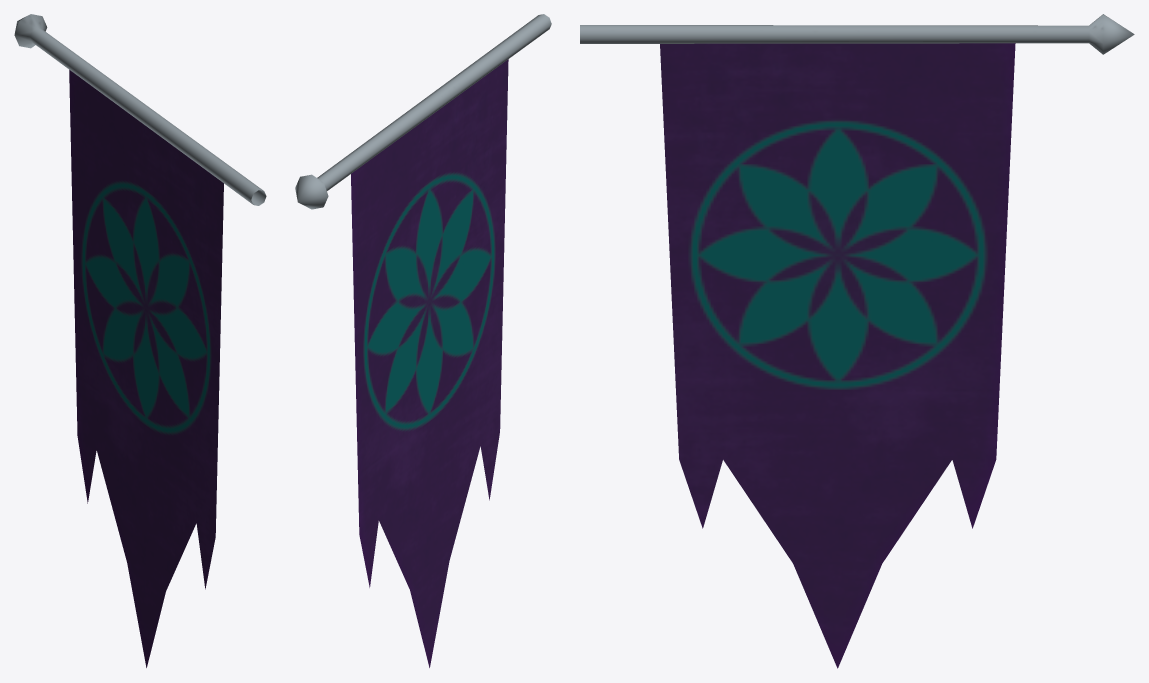
Rendered from Banner3.FBX.
3 views of the same model, side by side, from view 1: azimuth 30°, elevation 25°; view 2: azimuth 150°, elevation 25°; view 3: azimuth 270°, elevation 25° (orthographic). The views are drawn at different scales.
Parts seen in each view (by area): view 1: Banner_03; view 2: Banner_03; view 3: Banner_03.
Boxes of the visible parts, <box> form: Banner_03: <box>14,14,266,667</box>; Banner_03: <box>295,14,551,667</box>; Banner_03: <box>580,14,1134,668</box>.
Size of the model in its own units: 0.1197 by 1.99 by 1.53.
Materials: 1 (1 with a texture image).
